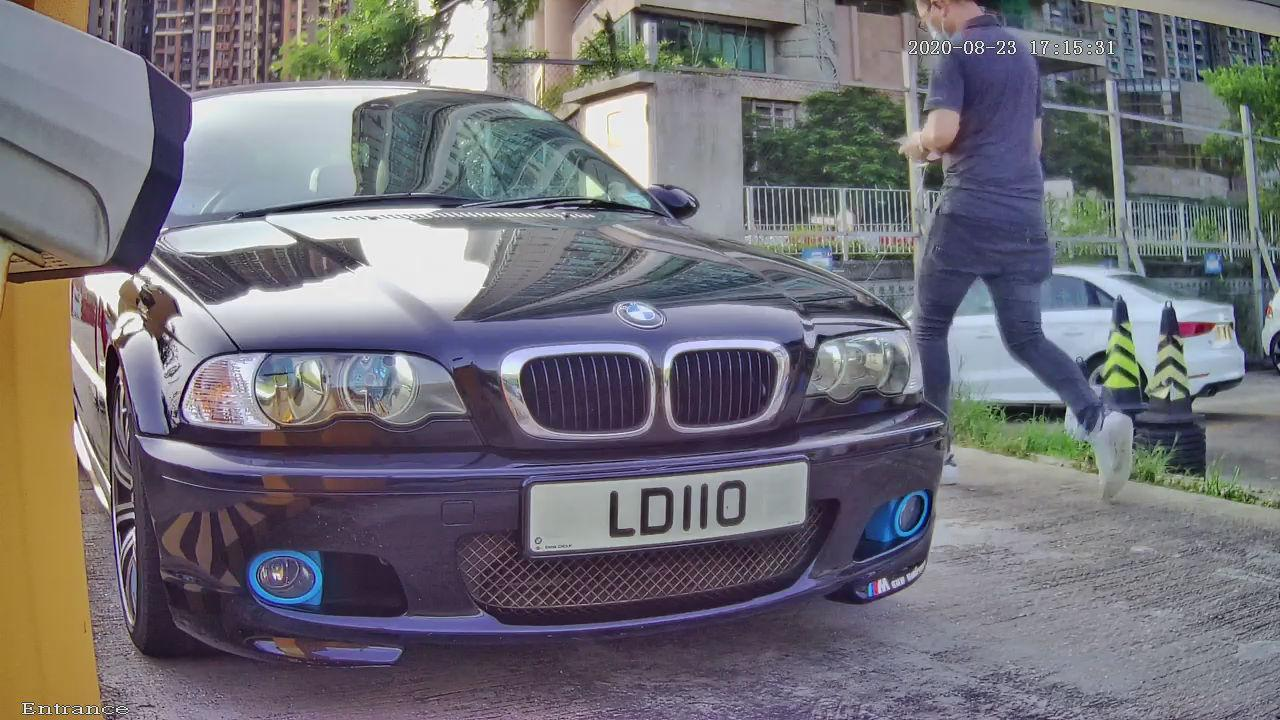Car: (35, 17, 1001, 717)
License Plate: (476, 433, 841, 599)
